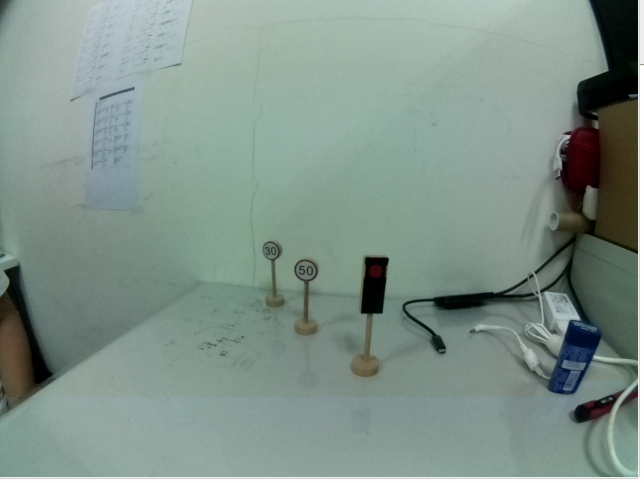Red: (358, 248, 392, 323)
Speed30: (260, 240, 284, 261)
Speed50: (294, 257, 319, 283)
